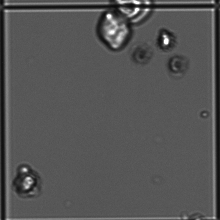Dead Cell: (132, 41, 154, 65), (166, 53, 190, 75)
Living Cell: (91, 9, 138, 53), (8, 162, 46, 199), (155, 28, 175, 48)
